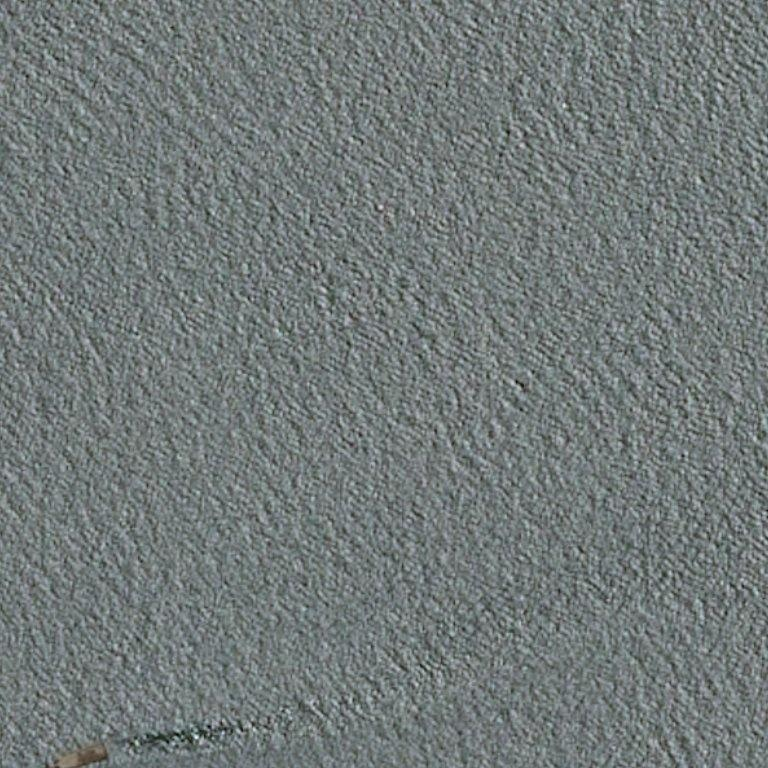ship: (52, 739, 109, 768)
